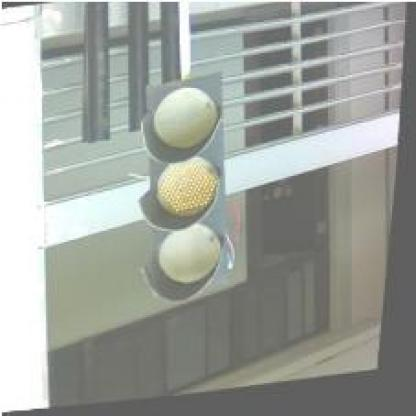yellow: (130, 80, 248, 305)
